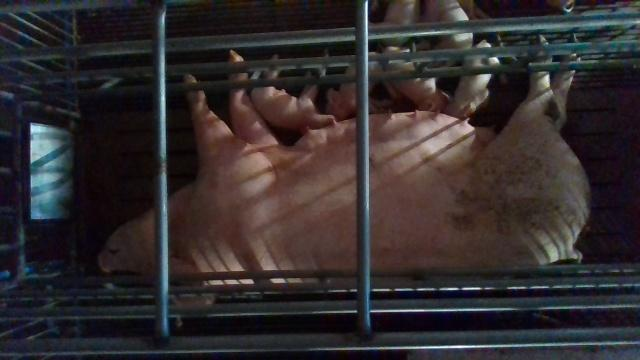piglet: (445, 40, 510, 117), (381, 45, 453, 112), (250, 87, 334, 128), (328, 63, 383, 122), (425, 0, 474, 51), (372, 0, 420, 48)
sow-sleep-lactate: (98, 37, 591, 304)
